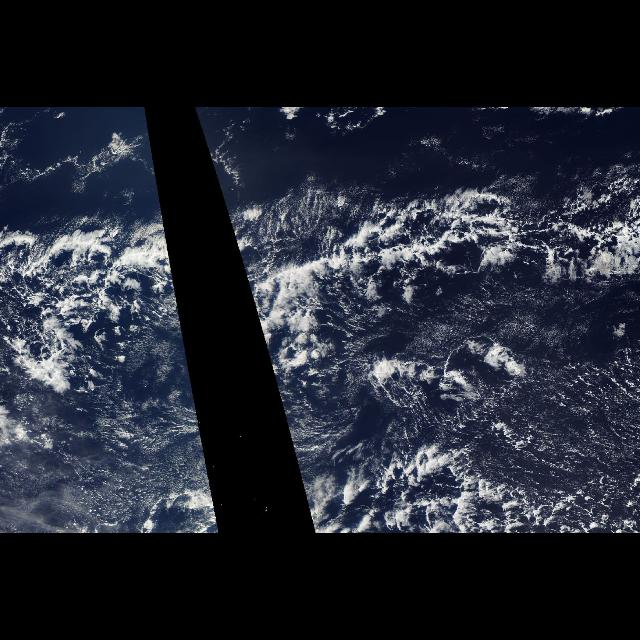Fish: (211, 164, 637, 386), (0, 164, 194, 396)
Gravel: (342, 336, 640, 534)
Sugar: (8, 386, 222, 534), (276, 386, 326, 534)
